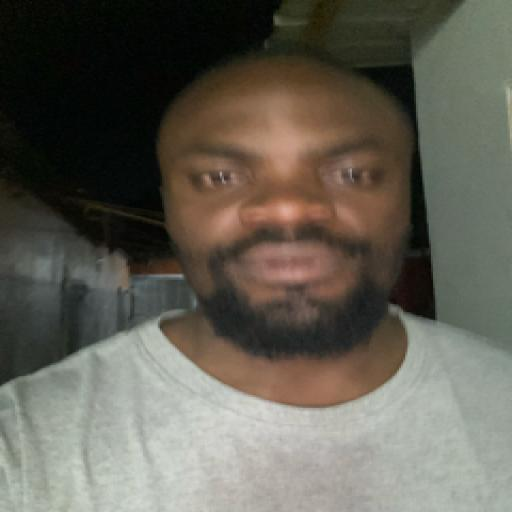JEANLUC: (143, 46, 427, 362)
